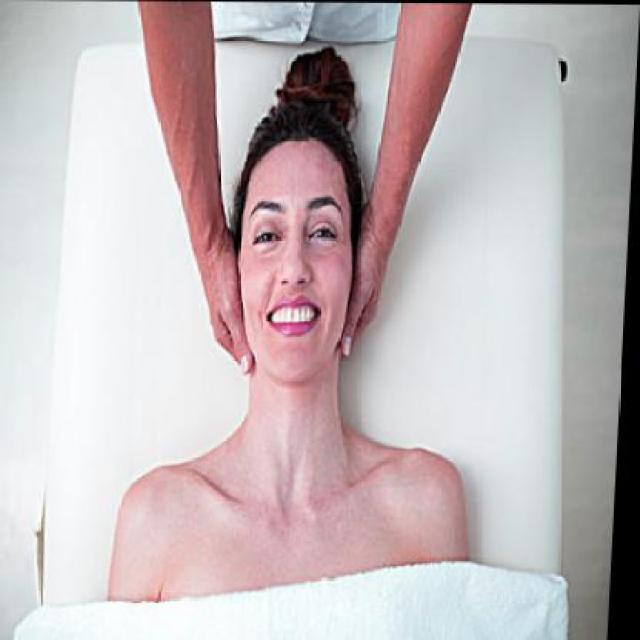Healthy: (252, 371, 336, 535)
